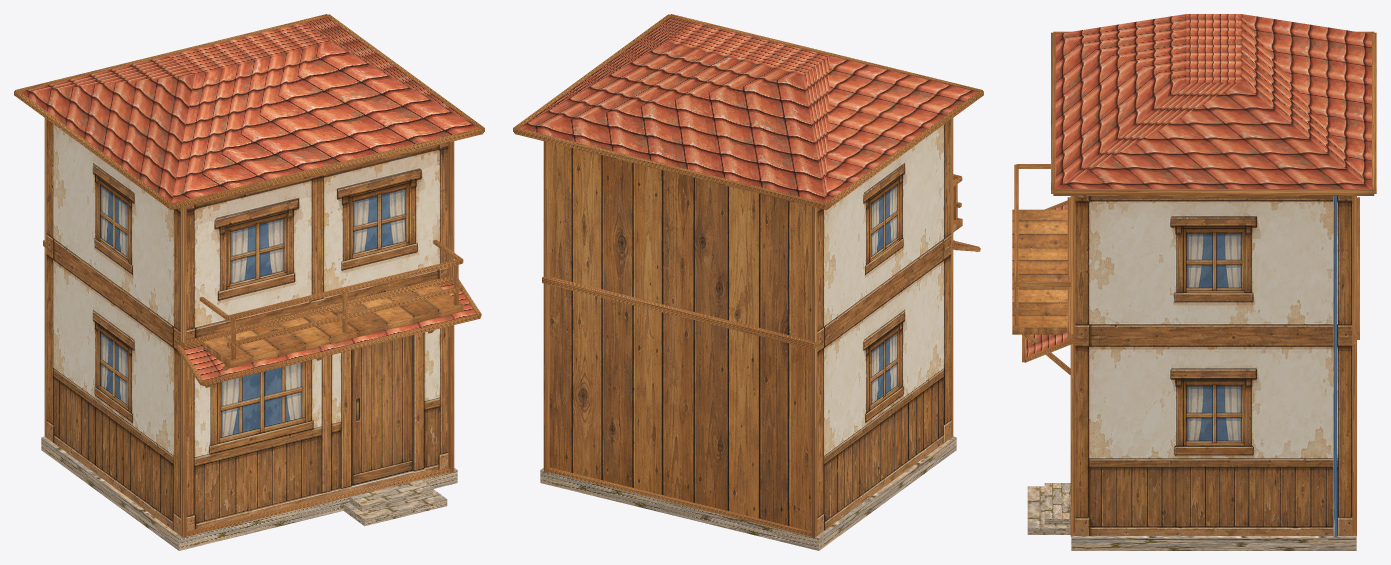
File: nyanisyarud-harbor-home-terracotta.glb
3 views of the same model, side by side, from view 1: azimuth 30°, elevation 25°; view 2: azimuth 150°, elevation 25°; view 3: azimuth 270°, elevation 25° (orthographic). The views are drawn at different scales.
Visible parts, largest first — view 1: Terracotta_Two_Story_Home; view 2: Terracotta_Two_Story_Home; view 3: Terracotta_Two_Story_Home.
Boxes of the visible parts, x1,y1,x2,y2 form: Terracotta_Two_Story_Home: (14, 14, 484, 550); Terracotta_Two_Story_Home: (513, 14, 983, 550); Terracotta_Two_Story_Home: (1012, 14, 1376, 550).
Bounding box in the file's own units: 2.21 × 2.79 × 2.13.
1 material, 1 textured.
